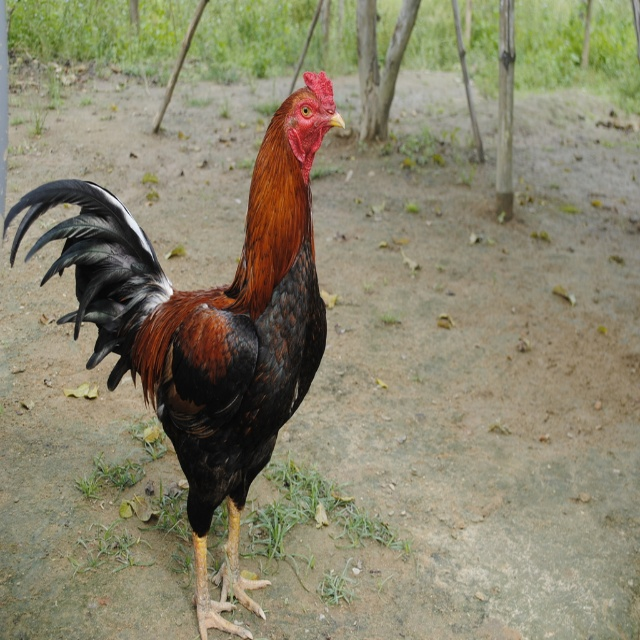Chicken: (3, 70, 345, 640)
